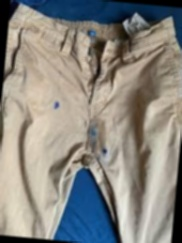ink: (88, 122, 97, 137), (54, 102, 60, 110), (102, 148, 107, 153)
